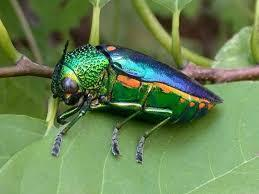Insects: (50, 36, 227, 167)
